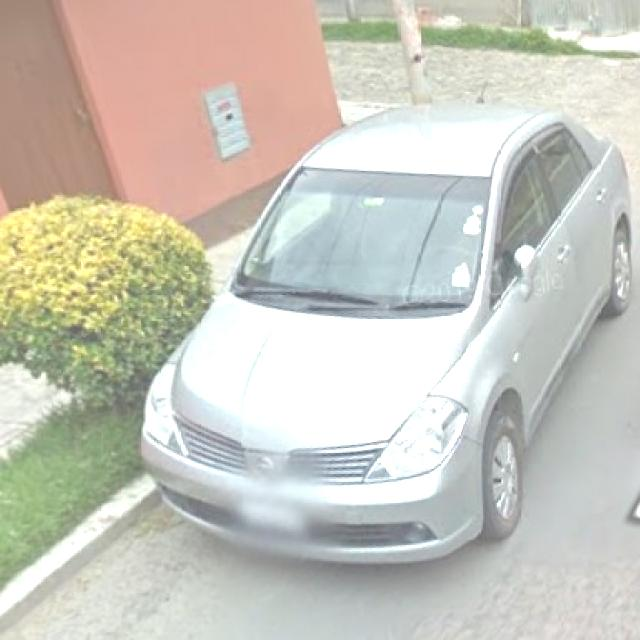car: (146, 93, 640, 577)
